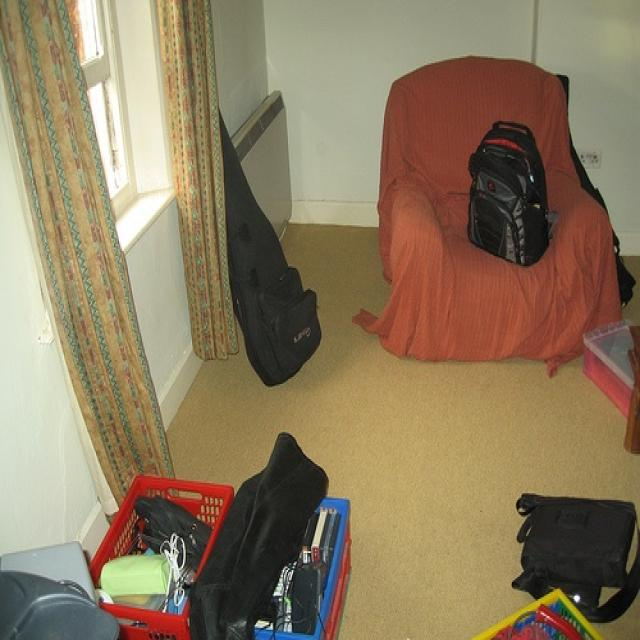chair: (376, 56, 613, 362)
